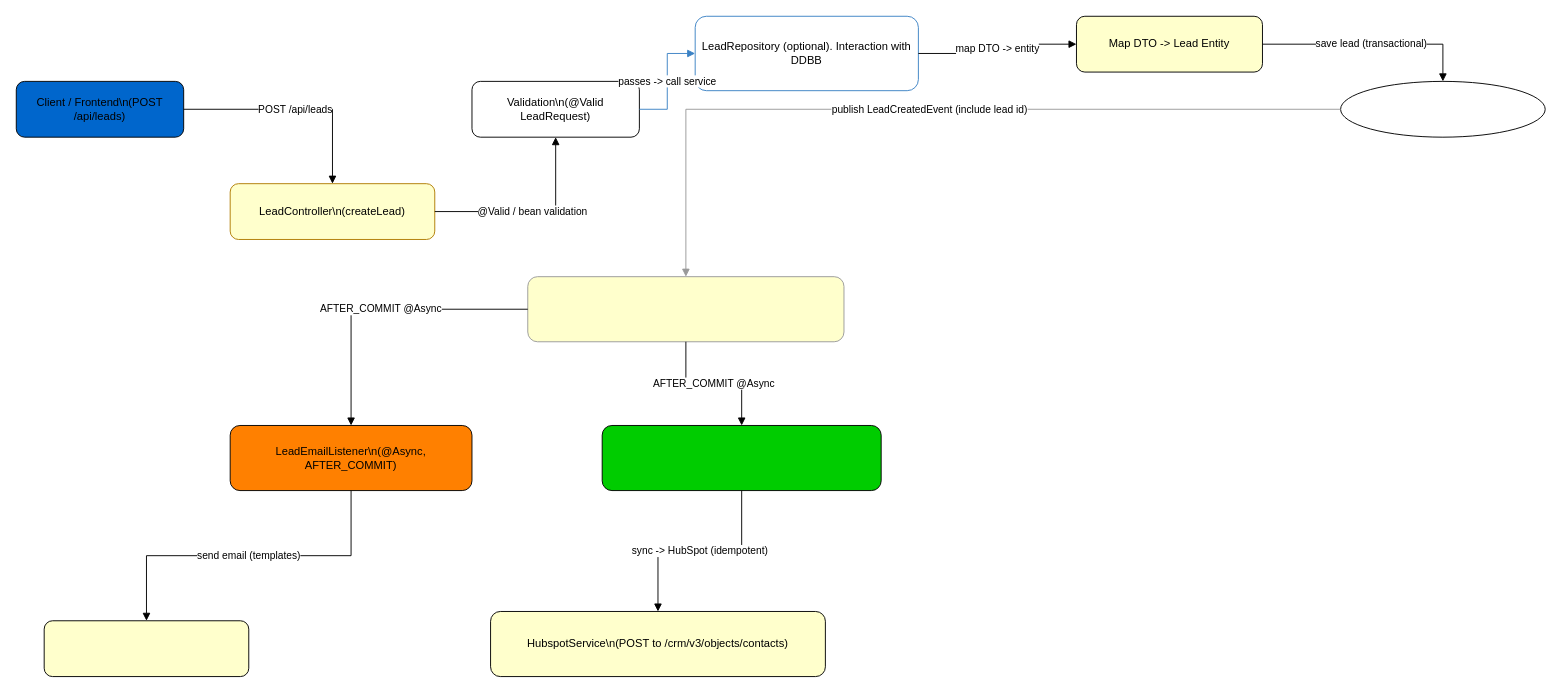
The diagram is 1561 pixels wide and 693 high, and some of its shapes have lost their labels. The box of each missing label's shape, as (x1, y1, x2, y2) in pixels:
Database\n(leads table): (1340, 80, 1545, 137)
EmailService\n(JavaMailSender): (43, 620, 249, 677)
LeadCreatedEvent\n(published after save): (527, 276, 844, 342)
LeadHubspotSyncListener\n(@Async, AFTER_COMMIT): (601, 425, 881, 491)
